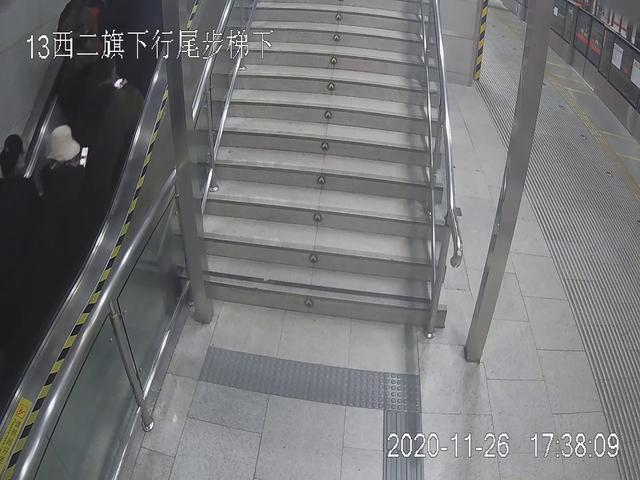person: (34, 114, 98, 276)
